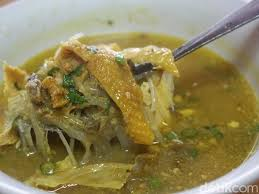soto: (2, 25, 223, 194)
